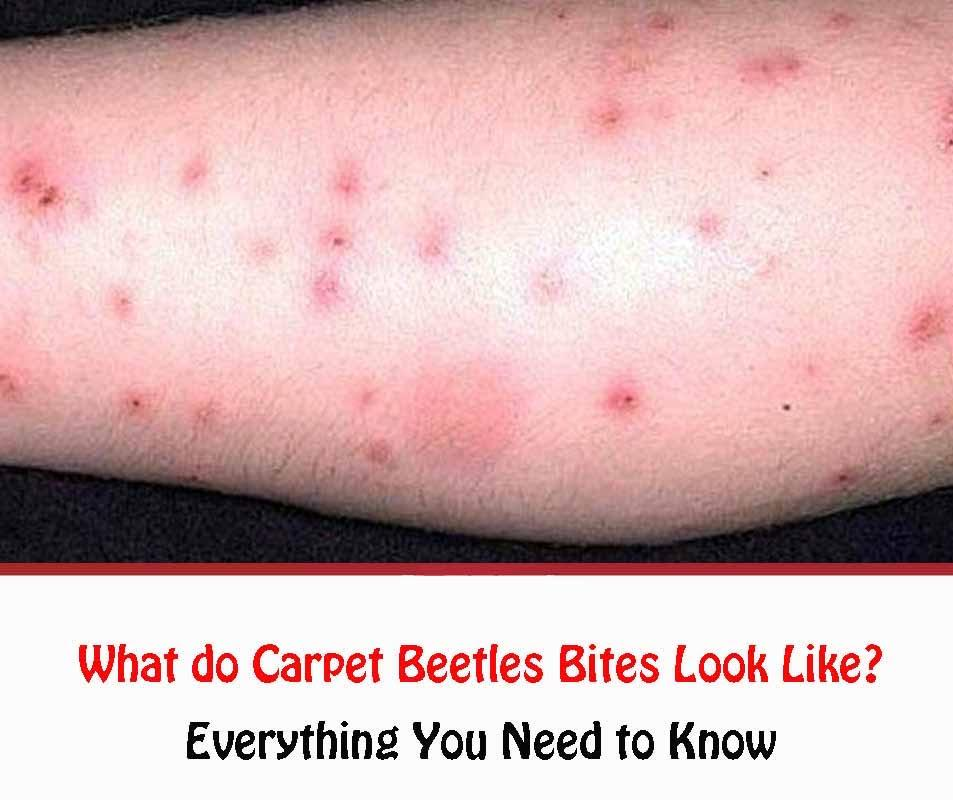Beetle: (305, 146, 377, 314), (346, 367, 420, 483), (585, 31, 636, 157), (398, 210, 475, 281), (11, 143, 66, 223), (896, 290, 953, 363), (595, 369, 653, 440)
